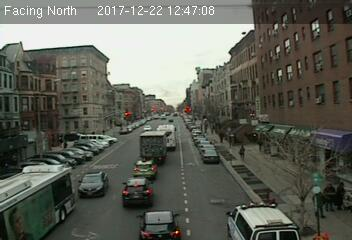bus: (1, 160, 76, 239), (158, 123, 177, 151)
car: (121, 176, 153, 205), (79, 171, 109, 198), (133, 161, 158, 176), (203, 149, 219, 162)
pedestrian: (314, 189, 325, 220), (237, 144, 247, 163)
police: (225, 197, 301, 240)
truck: (139, 130, 168, 162)
